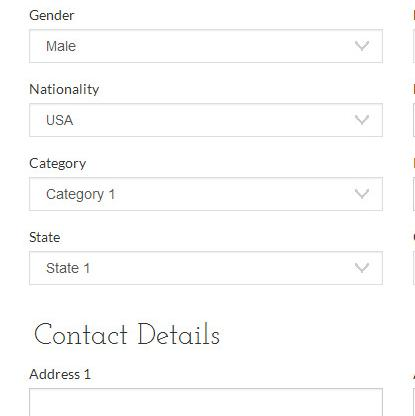field: (26, 28, 383, 65), (27, 101, 384, 138), (27, 176, 384, 213), (29, 250, 386, 287)
field_with_label: (24, 82, 386, 142), (23, 8, 384, 68), (26, 230, 387, 290), (24, 159, 387, 217)
